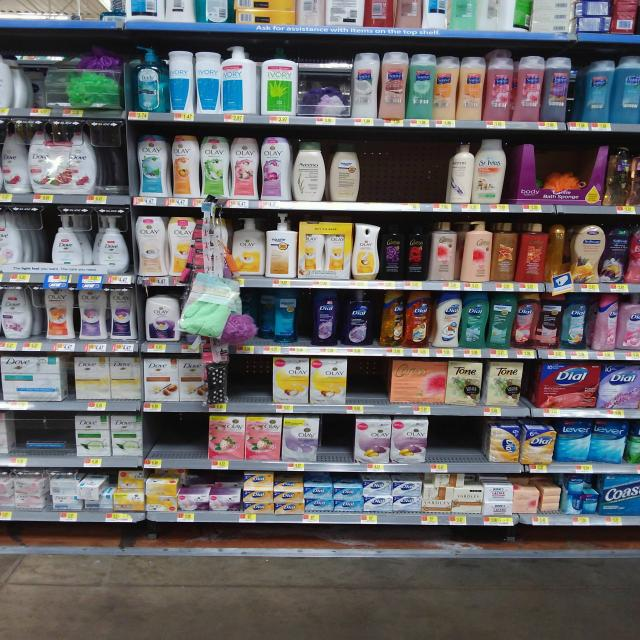unorganised: (447, 361, 526, 407), (72, 354, 141, 403), (457, 216, 491, 285), (589, 290, 619, 353), (591, 422, 626, 465), (380, 289, 403, 348), (487, 294, 512, 347), (490, 424, 521, 465), (548, 222, 568, 285), (12, 476, 45, 511), (254, 290, 272, 343), (78, 477, 105, 503), (116, 470, 145, 493), (435, 472, 466, 489), (564, 494, 583, 515)
